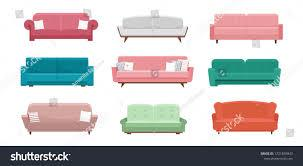sofa: (15, 50, 98, 89), (202, 56, 288, 92), (107, 55, 198, 86), (203, 9, 287, 42), (208, 100, 285, 136), (117, 101, 199, 133), (21, 12, 99, 45), (116, 10, 189, 43), (23, 103, 105, 131)
